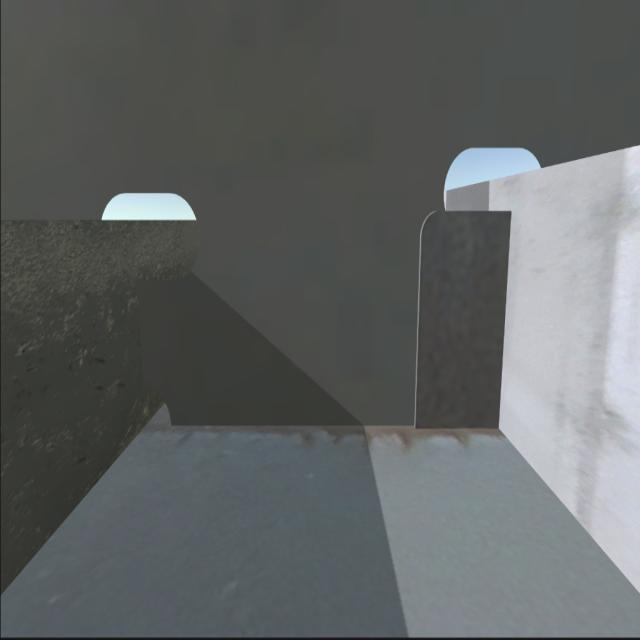fillet_hole: (140, 385, 172, 429)
fillet_yong_jeop_jang: (159, 418, 502, 436)
longi_yong_jeop_jang: (499, 205, 516, 434), (130, 289, 146, 388)
plate_CP05: (426, 207, 508, 420)
